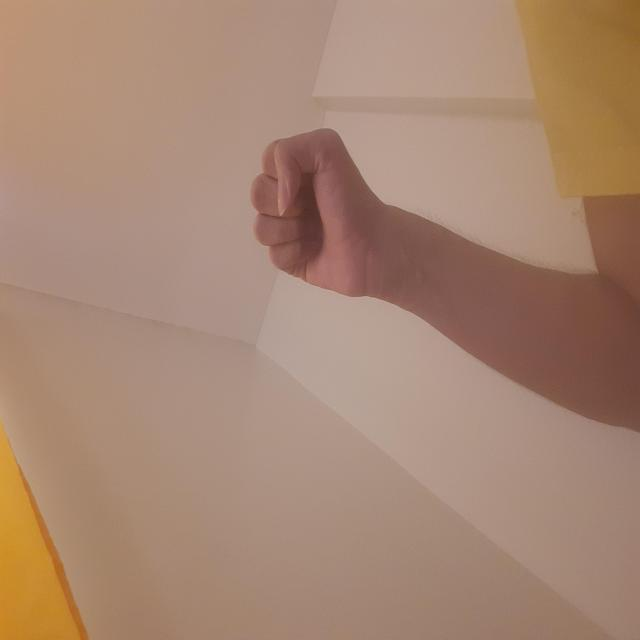S: (343, 251, 512, 366)
